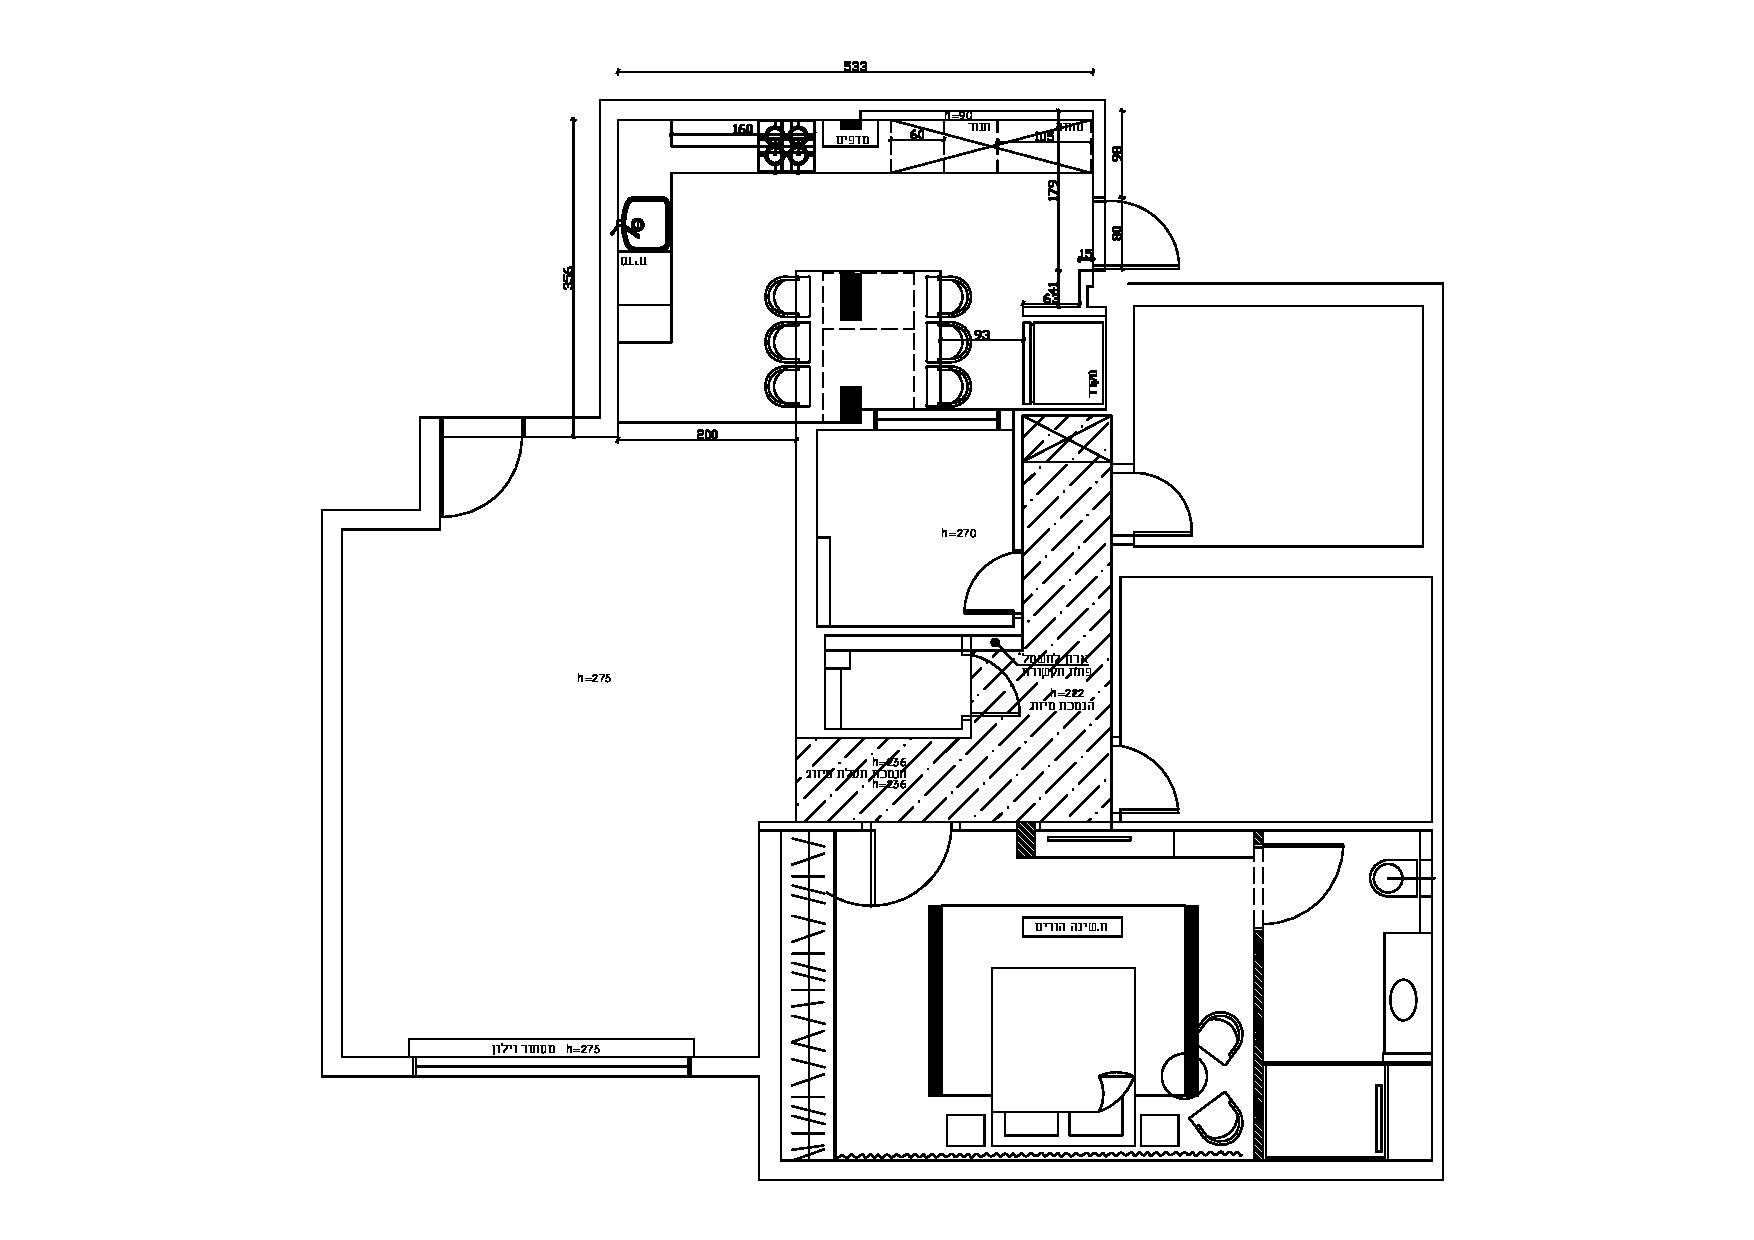door: (841, 825, 976, 913), (1270, 837, 1343, 931), (1123, 452, 1204, 537), (1117, 189, 1189, 267), (961, 538, 1023, 627), (964, 648, 1027, 729), (1121, 735, 1189, 807)
room: (444, 435, 750, 1021), (619, 115, 1104, 407), (837, 823, 1241, 1146), (807, 431, 1102, 812), (1125, 580, 1418, 816), (1138, 310, 1416, 539), (1270, 837, 1425, 1164)
wall: (1423, 285, 1452, 1184), (757, 1155, 1439, 1186), (318, 503, 350, 1080), (599, 87, 1119, 119), (1131, 276, 1449, 309), (597, 93, 623, 437), (421, 412, 623, 440), (412, 407, 444, 537)
window: (407, 1033, 697, 1092)
